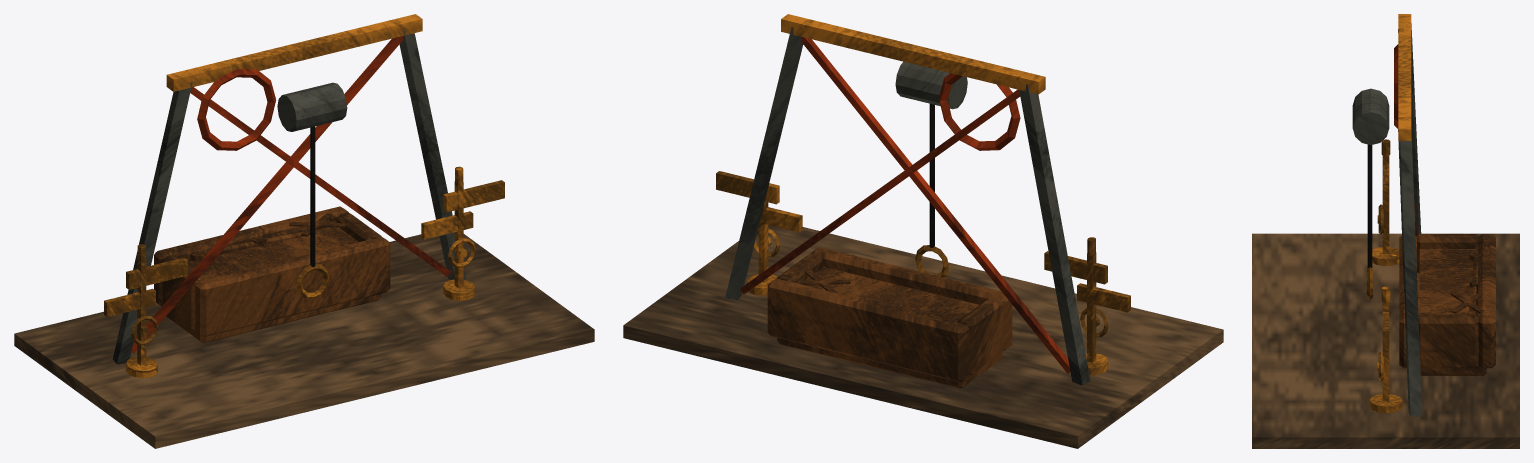
Rendered from dry-wash-recovery-gantry.glb.
The picture shows the model from 3 angles, left to right: view 1: azimuth 30°, elevation 25°; view 2: azimuth 150°, elevation 25°; view 3: azimuth 270°, elevation 25°; orthographic projection. The views are drawn at different scales.
Visible parts, largest first — view 1: dry-wash-recovery-gantry; view 2: dry-wash-recovery-gantry; view 3: dry-wash-recovery-gantry.
Part boxes in pixels (box(x1,y1,x2,y2)): dry-wash-recovery-gantry: box(14, 14, 594, 448); dry-wash-recovery-gantry: box(623, 14, 1223, 448); dry-wash-recovery-gantry: box(1252, 14, 1519, 448).
Size of the model in its own units: 9 by 5.67 by 5.
1 material, 1 textured.
